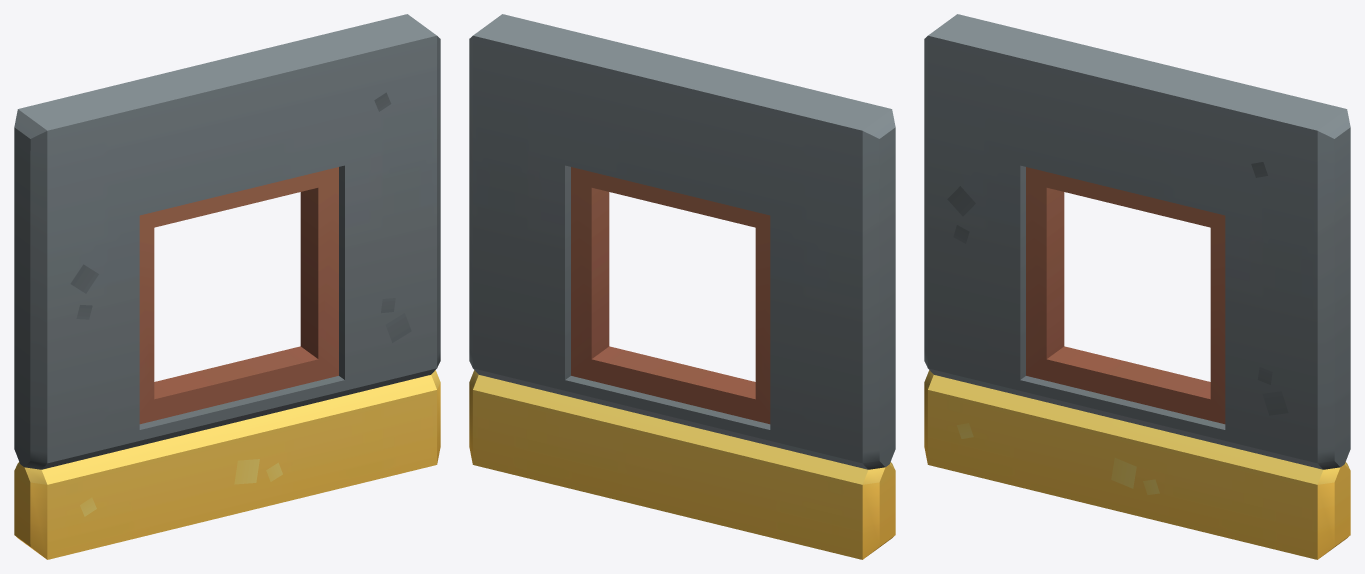
The model's file is kaykit-prototype-bits-wall-window-open.glb.
3 renders of one model, left to right at view 1: azimuth 30°, elevation 25°; view 2: azimuth 150°, elevation 25°; view 3: azimuth 330°, elevation 25°, orthographic.
Parts seen in each view (by area): view 1: Wall_Window_Open; view 2: Wall_Window_Open; view 3: Wall_Window_Open.
Boxes of the visible parts, box(x1,y1,x2,y2) form: Wall_Window_Open: box(14, 14, 440, 559); Wall_Window_Open: box(469, 14, 895, 559); Wall_Window_Open: box(924, 14, 1350, 559).
Size of the model in its own units: 4 by 4 by 0.5298.
Materials: 1 (1 with a texture image).
